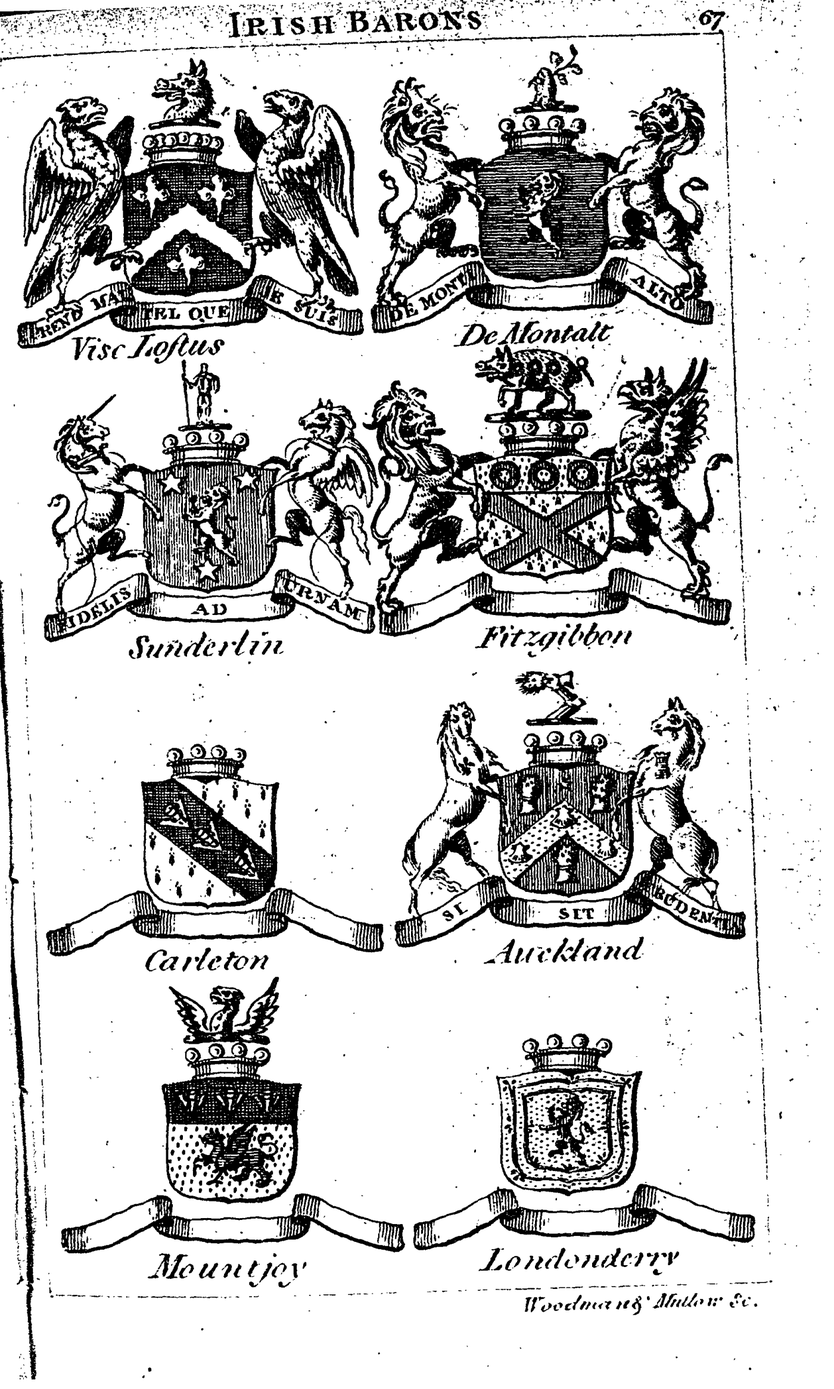coat_of_arms: (372, 355, 733, 656), (38, 354, 377, 666), (397, 676, 757, 963), (368, 57, 723, 347), (8, 64, 362, 350), (415, 978, 755, 1272), (50, 691, 381, 990), (73, 985, 400, 1278)
